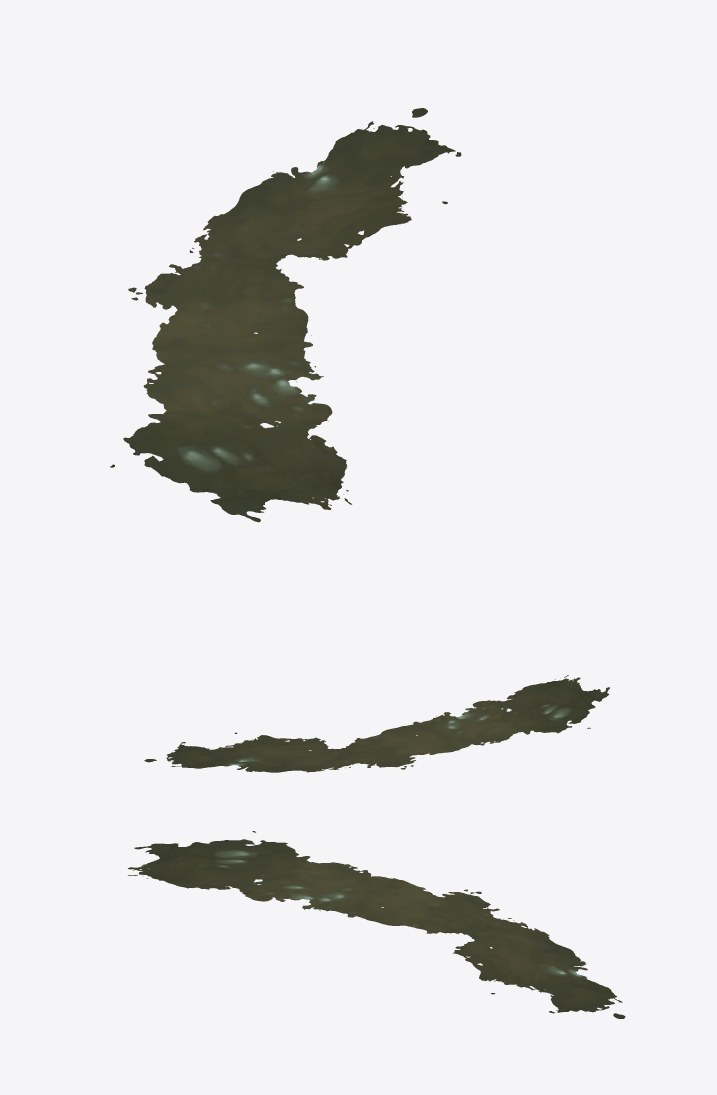
Rendered from road_curve_dirt1a.fbx.
3 renders of one model, top to bottom at view 1: azimuth 30°, elevation 25°; view 2: azimuth 150°, elevation 25°; view 3: azimuth 270°, elevation 25°, orthographic. The views are drawn at different scales.
Parts seen in each view (by area): view 1: obj0.052; view 2: obj0.052; view 3: obj0.052.
Boxes of the visible parts, left/top/right/bottom form: obj0.052: left=110, top=108, right=461, bottom=522; obj0.052: left=144, top=675, right=609, bottom=772; obj0.052: left=128, top=831, right=625, bottom=1018.
Size of the model in its own units: 19.06 by 2.57e-06 by 20.87.
